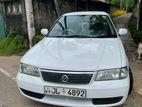car: (16, 11, 134, 107)
